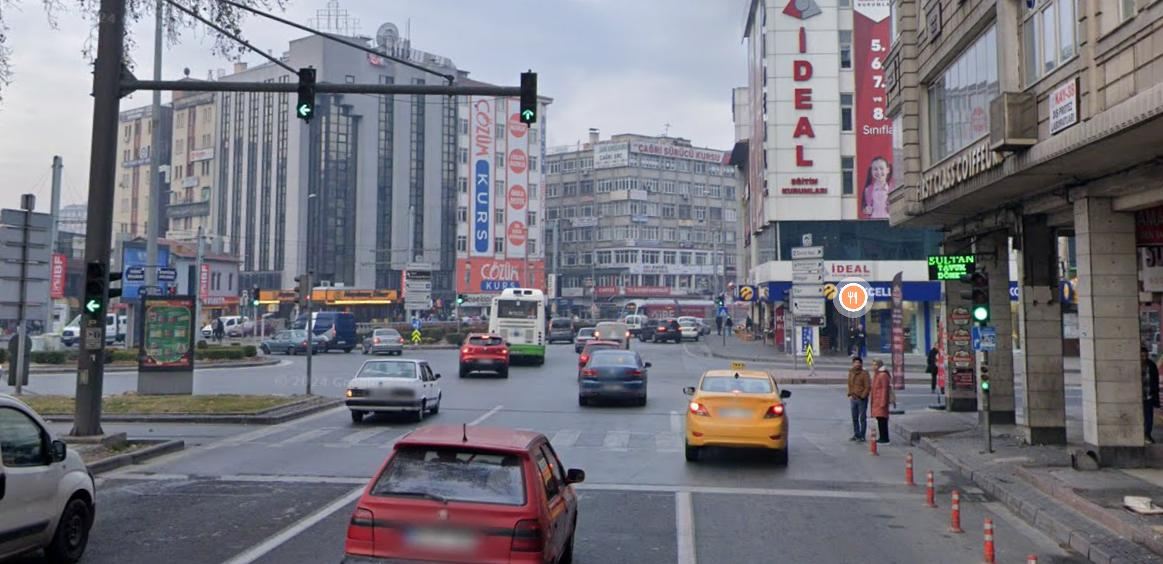greenlight: (84, 261, 109, 320), (518, 70, 539, 124), (971, 271, 990, 324), (298, 64, 315, 122)
